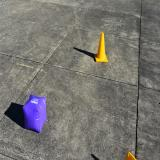cone: (94, 32, 108, 62), (126, 151, 138, 160)
cube: (22, 95, 48, 134)
